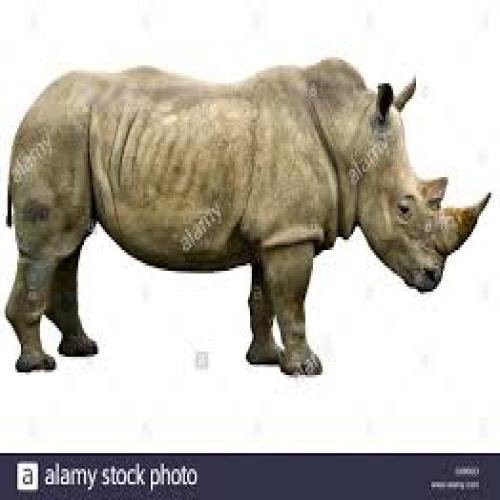rhino-endangered: (3, 54, 492, 378)
